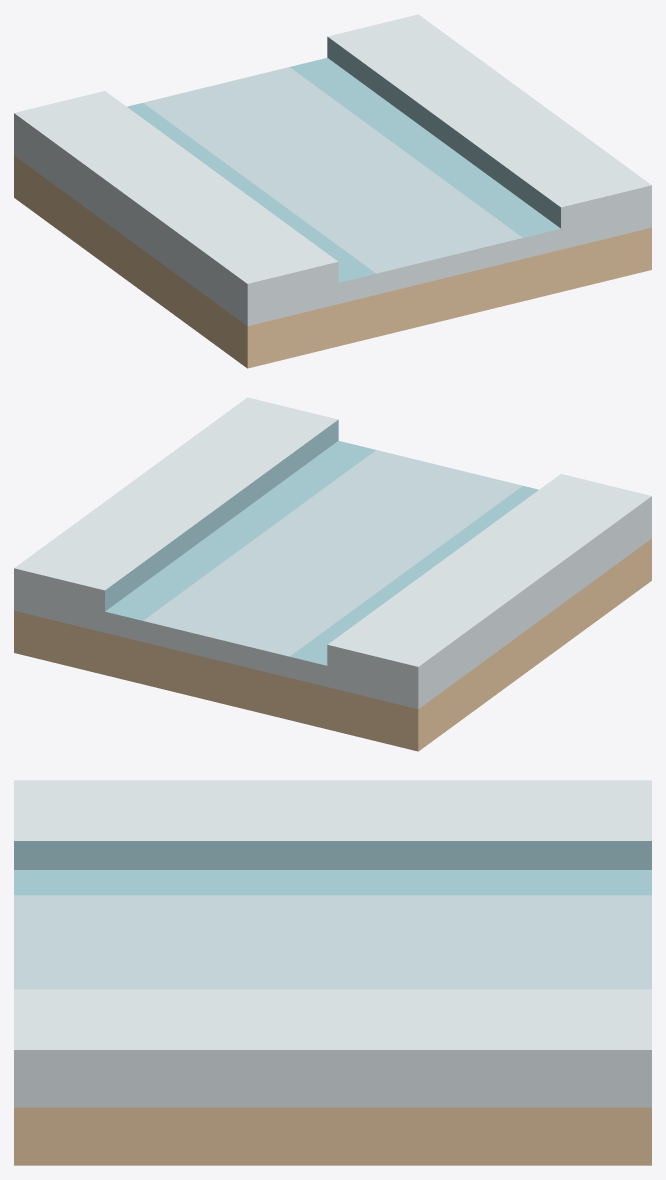
Rendered from snow_tile_straight.glb.
3 renders of one model, top to bottom at view 1: azimuth 30°, elevation 25°; view 2: azimuth 150°, elevation 25°; view 3: azimuth 270°, elevation 25°, orthographic. The views are drawn at different scales.
Visible parts, largest first — view 1: snow_tile_straight; view 2: snow_tile_straight; view 3: snow_tile_straight.
Boxes of the visible parts, <box> form: snow_tile_straight: <box>14,14,651,368</box>; snow_tile_straight: <box>14,397,651,751</box>; snow_tile_straight: <box>14,780,651,1165</box>.
Bounding box in the file's own units: 1 × 0.2 × 1.
